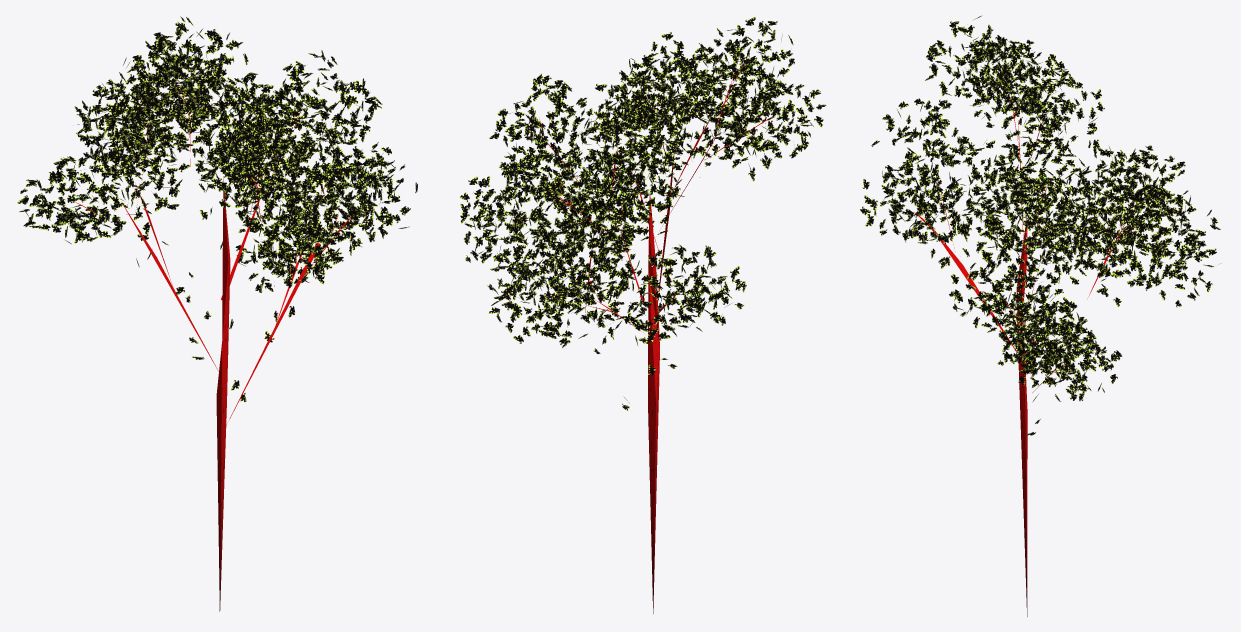
Rendered from birch_pale_v03_LOD1.glb.
3 views of the same model, side by side, from view 1: azimuth 30°, elevation 25°; view 2: azimuth 150°, elevation 25°; view 3: azimuth 270°, elevation 25° (orthographic). The views are drawn at different scales.
Visible parts, largest first — view 1: birch_pale_v03_LOD1; view 2: birch_pale_v03_LOD1; view 3: birch_pale_v03_LOD1.
Boxes of the visible parts, x1,y1,x2,y2 form: birch_pale_v03_LOD1: (17, 16, 417, 611); birch_pale_v03_LOD1: (459, 17, 826, 613); birch_pale_v03_LOD1: (860, 16, 1220, 616).
Size of the model in its own units: 12.22 by 20.26 by 11.98.
Materials: 2 (2 with a texture image).
